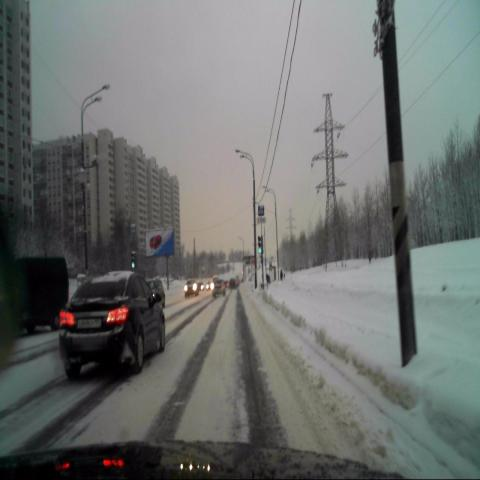5_19_1: (257, 204, 264, 215)
